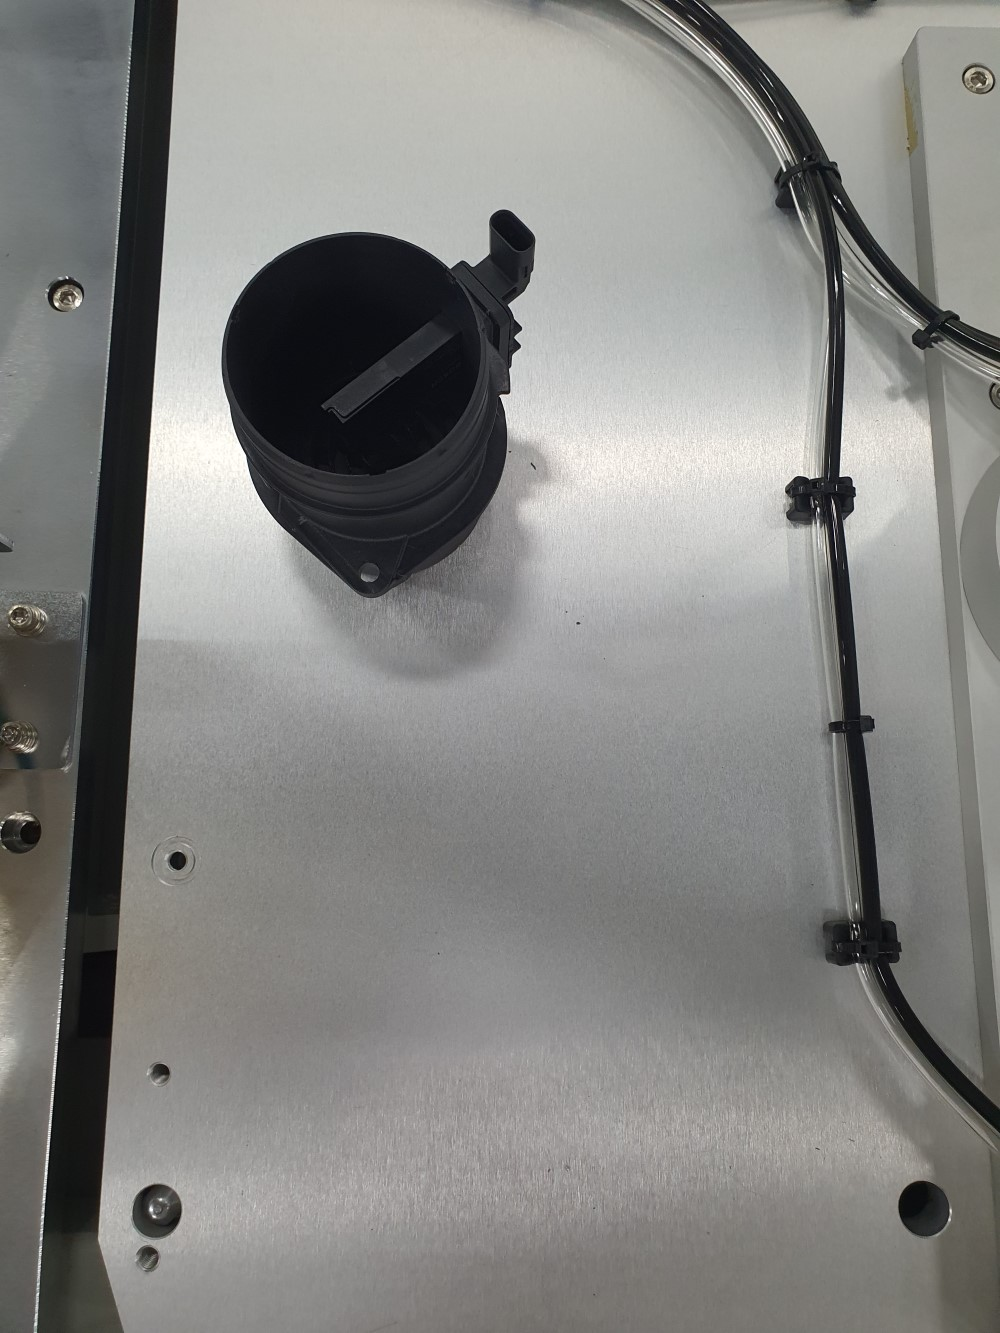ok: (221, 207, 542, 600)
